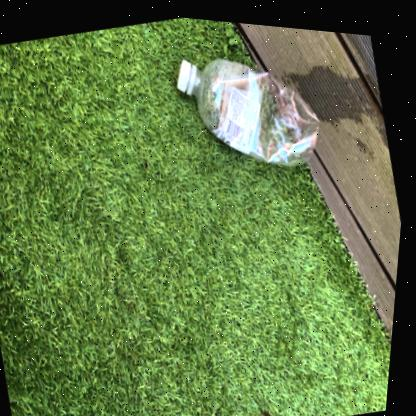Plastic: (177, 54, 320, 159)
